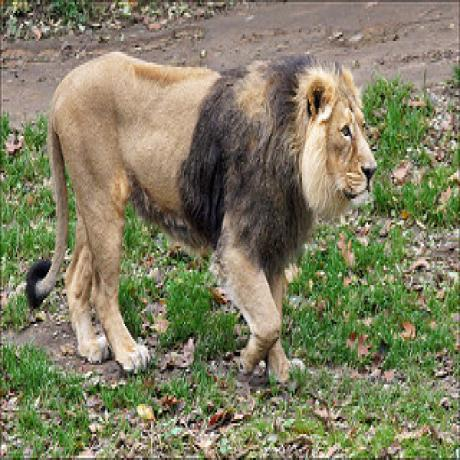Lion: (25, 49, 378, 388)
